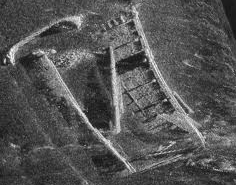ship: (83, 4, 208, 155), (2, 13, 83, 66)
